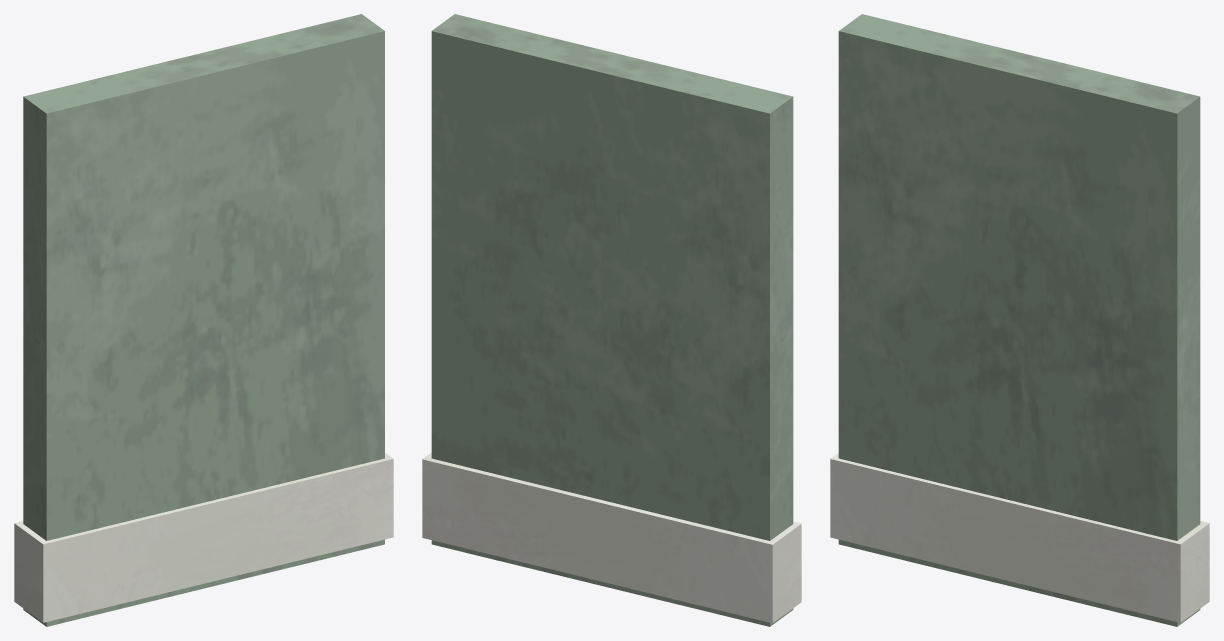
File: normal_wall.fbx
The picture shows the model from 3 angles, left to right: view 1: azimuth 30°, elevation 25°; view 2: azimuth 150°, elevation 25°; view 3: azimuth 330°, elevation 25°; orthographic projection.
Parts seen in each view (by area): view 1: strip.005; view 2: strip.005; view 3: strip.005.
Boxes of the visible parts, bbox=[...] form: strip.005: bbox=[14, 14, 393, 626]; strip.005: bbox=[422, 14, 801, 626]; strip.005: bbox=[830, 14, 1209, 626].
Size of the model in its own units: 561 by 785 by 80.59.
Materials: 1 (1 with a texture image).
